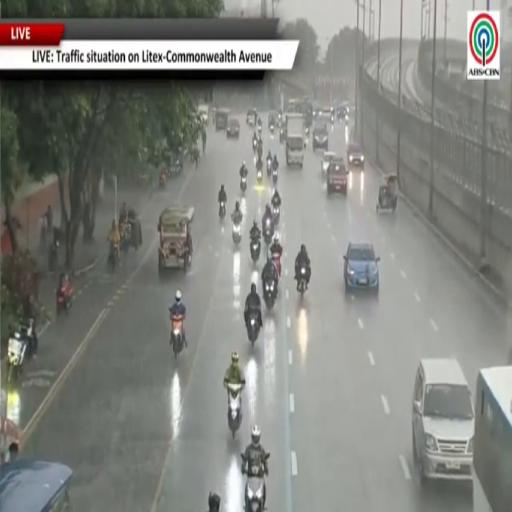bus: (474, 366, 511, 511), (0, 459, 72, 511)
car: (412, 359, 474, 484), (344, 243, 380, 293), (327, 156, 347, 195), (348, 141, 364, 170), (312, 122, 328, 151), (321, 152, 336, 174), (227, 119, 239, 138), (318, 107, 333, 121), (198, 105, 209, 124), (246, 108, 257, 126), (337, 105, 348, 121), (268, 112, 277, 129), (313, 104, 321, 120), (280, 123, 286, 142)
jeepney: (158, 205, 194, 273), (215, 109, 230, 131)
motorcycle: (242, 455, 266, 511), (7, 333, 28, 382), (227, 383, 242, 438), (18, 318, 37, 357), (56, 281, 73, 315), (171, 315, 183, 358), (247, 312, 260, 345), (264, 280, 277, 309), (48, 238, 59, 271), (108, 243, 119, 271), (122, 222, 131, 255), (297, 266, 306, 296), (263, 218, 273, 245), (250, 239, 260, 263), (272, 252, 281, 278), (233, 223, 241, 245), (218, 200, 226, 220), (240, 175, 247, 191), (159, 173, 166, 189), (273, 205, 279, 223), (256, 168, 262, 184), (272, 168, 278, 183), (267, 158, 272, 175), (257, 144, 262, 159), (253, 139, 257, 153), (270, 124, 274, 134), (331, 115, 335, 124), (258, 124, 261, 134)
truck: (286, 114, 305, 168)
